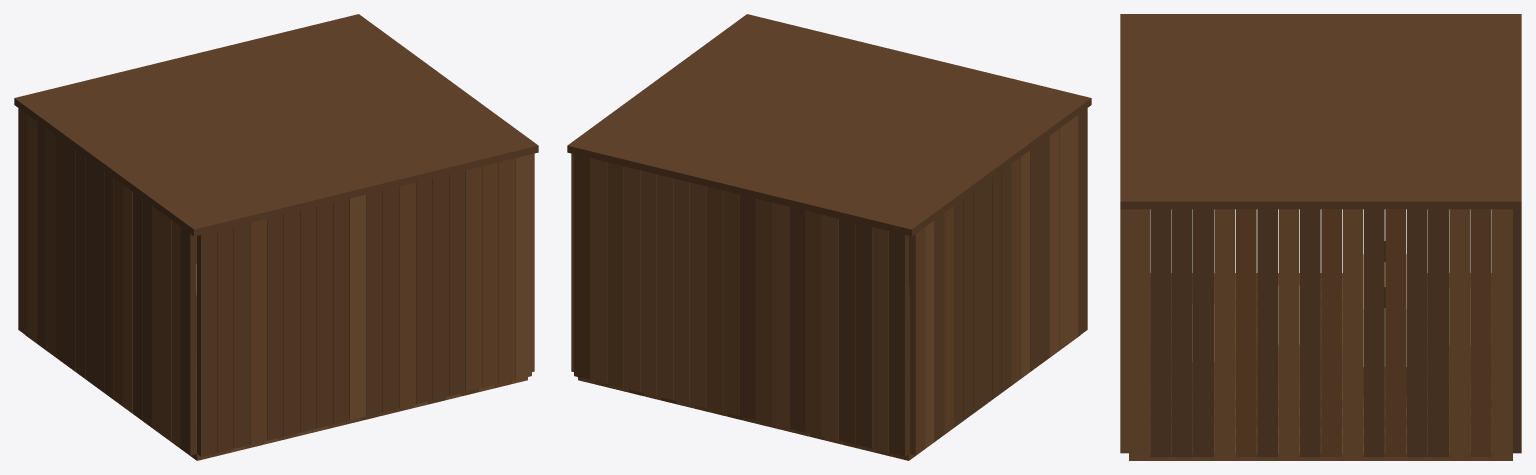
Rendered from room.glb.
The picture shows the model from 3 angles, left to right: view 1: azimuth 30°, elevation 25°; view 2: azimuth 150°, elevation 25°; view 3: azimuth 270°, elevation 25°; orthographic projection. The views are drawn at different scales.
Parts seen in each view (by area): view 1: Box.500, Box.406, Box.412, Box.433, Box.454, Box.460, Box.439, Box.442, Box.457, Box.418, Box.427, Box.436 (+28 smaller); view 2: Box.500, Box.405, Box.411, Box.432, Box.453, Box.459, Box.438, Box.441, Box.456, Box.417, Box.426, Box.435 (+28 smaller); view 3: Box.500, Box.467, Box.469, Box.473, Box.479, Box.485, Box.491, Box.495, Box.497, Box.465, Box.471, Box.475 (+10 smaller).
Boxes of the visible parts, <box> form: Box.500: <box>14,14,538,236</box>; Box.406: <box>197,231,216,456</box>; Box.412: <box>233,223,250,448</box>; Box.433: <box>349,194,366,420</box>; Box.454: <box>465,166,482,391</box>; Box.460: <box>498,158,515,383</box>; Box.439: <box>382,186,399,412</box>; Box.442: <box>399,182,415,408</box>; Box.457: <box>482,162,498,387</box>; Box.418: <box>267,215,283,440</box>; Box.427: <box>316,203,332,428</box>; Box.436: <box>366,190,382,416</box>; Box.500: <box>567,14,1091,236</box>; Box.405: <box>889,231,908,456</box>; Box.411: <box>855,223,872,448</box>; Box.432: <box>739,194,756,420</box>; Box.453: <box>623,166,640,391</box>; Box.459: <box>590,158,607,383</box>; Box.438: <box>706,186,723,412</box>; Box.441: <box>690,182,706,408</box>; Box.456: <box>607,162,623,387</box>; Box.417: <box>822,215,838,440</box>; Box.426: <box>773,203,789,428</box>; Box.435: <box>723,190,739,416</box>; Box.500: <box>1120,14,1521,209</box>; Box.467: <box>1150,209,1171,456</box>; Box.469: <box>1171,209,1192,456</box>; Box.473: <box>1214,209,1235,456</box>; Box.479: <box>1278,209,1299,456</box>; Box.485: <box>1342,209,1363,456</box>; Box.491: <box>1406,209,1427,456</box>; Box.495: <box>1449,209,1470,456</box>; Box.497: <box>1470,209,1491,456</box>; Box.465: <box>1129,209,1149,456</box>; Box.471: <box>1193,209,1213,456</box>; Box.475: <box>1236,209,1256,456</box>.
Bounding box in the file's own units: 5.2 × 3.4 × 4.7.
